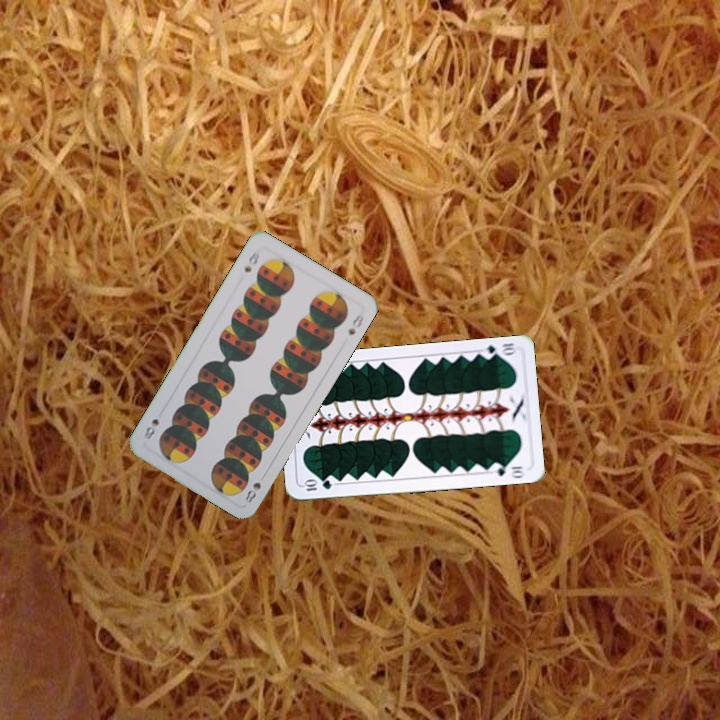G10: (478, 339, 518, 361), (300, 476, 334, 493)
S8: (241, 478, 264, 506), (240, 246, 262, 275)
